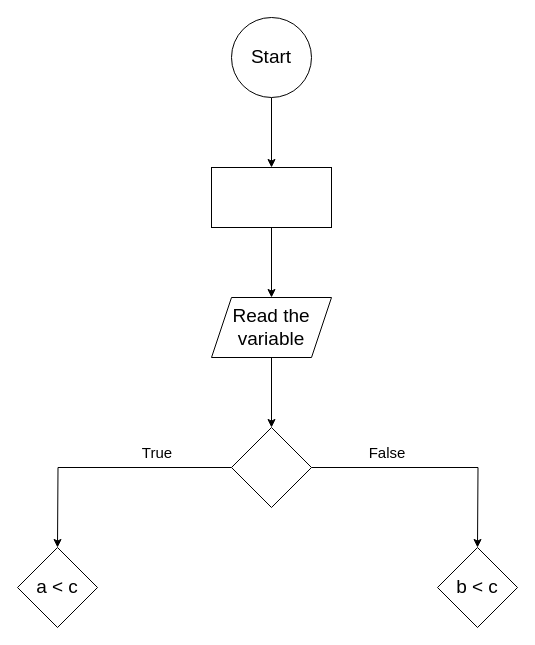
This 535x645 diagram has some shape labels left out. The centre of each missing label's shape, as x and y in pixels:
a < b: the point at 271,467
int a, b and c: the point at 271,197
